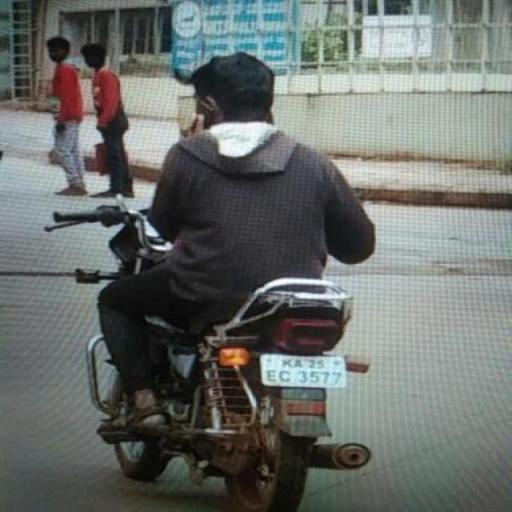using mobile: (178, 94, 226, 138)
